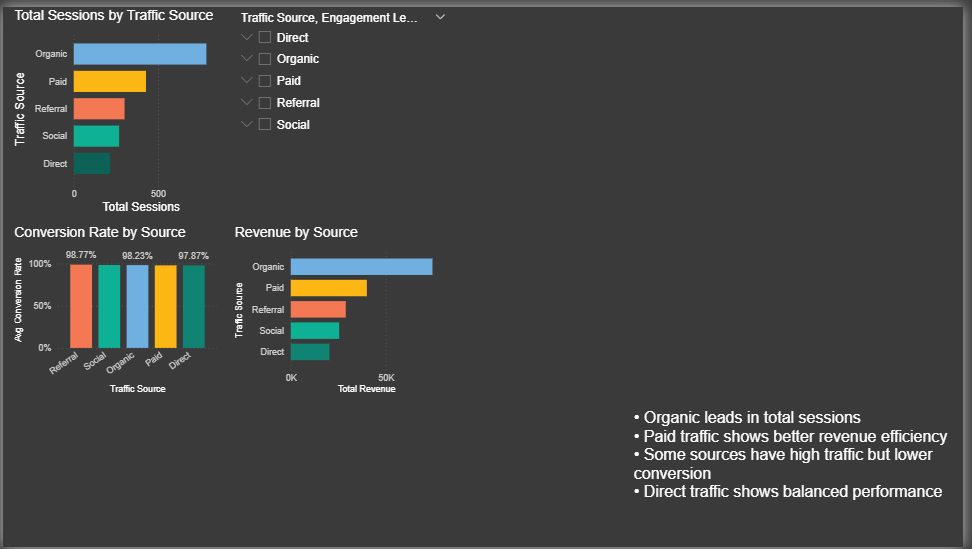

The dashboard page shown, as its layout file describes it:
{"tool":"powerbi","page":{"name":"Traffic Performance","canvas":[1280,720],"ordinal":1},"visuals":[{"type":"clusteredBarChart","fields":{"Category":["website_data.Traffic Source"],"Y":["website_data.Total Sessions"]},"box":[10,0,280,280],"z":0},{"type":"clusteredColumnChart","title":"Conversion Rate by Source","fields":{"Category":["website_data.Traffic Source"],"Y":["website_data.Avg Conversion Rate"]},"box":[9.4,289.1,279.7,230.6],"z":1000},{"type":"clusteredBarChart","title":"Revenue by Source","fields":{"Category":["website_data.Traffic Source"],"Y":["website_data.Total Revenue"]},"box":[304,290,298,230],"z":2000},{"type":"slicer","fields":{"Values":["website_data.Traffic Source","website_data.Engagement Level","website_data.Page View Group"]},"box":[304,0,298,236],"z":3000},{"type":"textbox","box":[836,530,444,190],"z":3001}]}

Visuals, with their boxes in screenshot pixels (x1, y1, x2, y2), scaled from the page's 1280x720 canvas onto the 972x549 screenshot:
clusteredBarChart - website_data.Traffic Source x website_data.Total Sessions: rect(8, 0, 220, 214)
"Conversion Rate by Source" clusteredColumnChart: rect(7, 220, 220, 396)
"Revenue by Source" clusteredBarChart: rect(231, 221, 457, 396)
slicer - website_data.Traffic Source x website_data.Engagement Level: rect(231, 0, 457, 180)
textbox: rect(635, 404, 971, 548)
